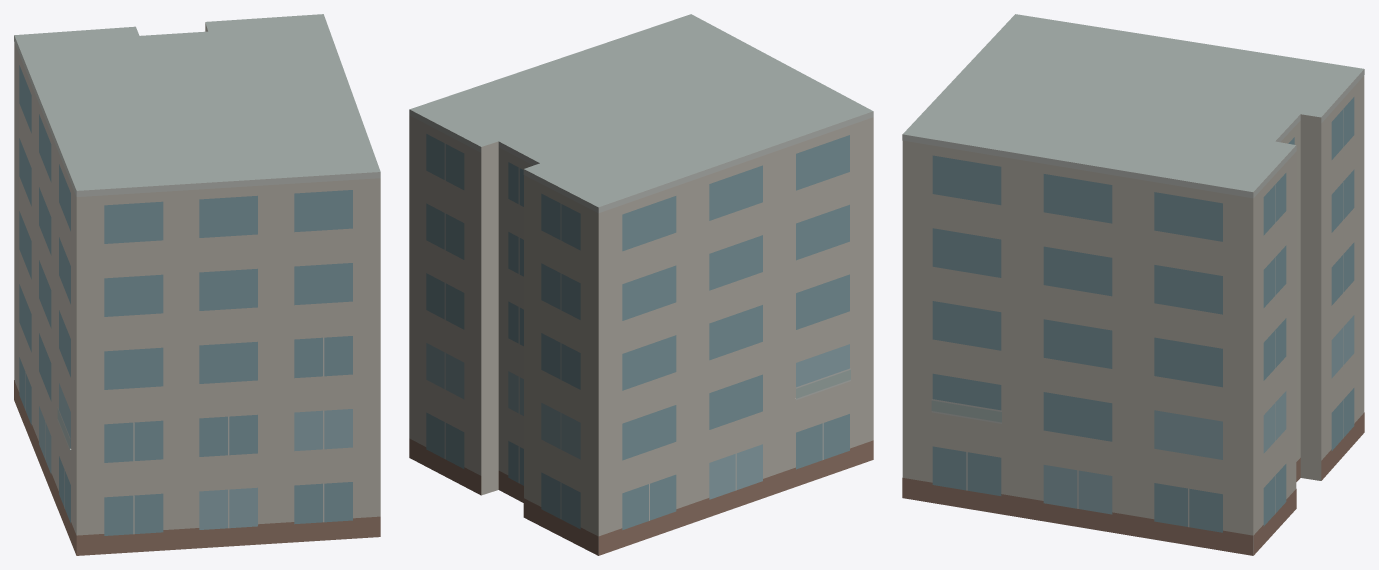
File: survey-upis-32876026.glb
3 views of the same model, side by side, from view 1: azimuth 30°, elevation 25°; view 2: azimuth 150°, elevation 25°; view 3: azimuth 270°, elevation 25° (orthographic). The views are drawn at different scales.
Parts seen in each view (by area): view 1: survey-upis-32876026.tmp; view 2: survey-upis-32876026.tmp; view 3: survey-upis-32876026.tmp.
Boxes of the visible parts, <box> form: survey-upis-32876026.tmp: <box>14,14,380,555</box>; survey-upis-32876026.tmp: <box>409,14,873,555</box>; survey-upis-32876026.tmp: <box>902,14,1364,555</box>.
Size of the model in its own units: 15.09 by 14.35 by 16.53.
